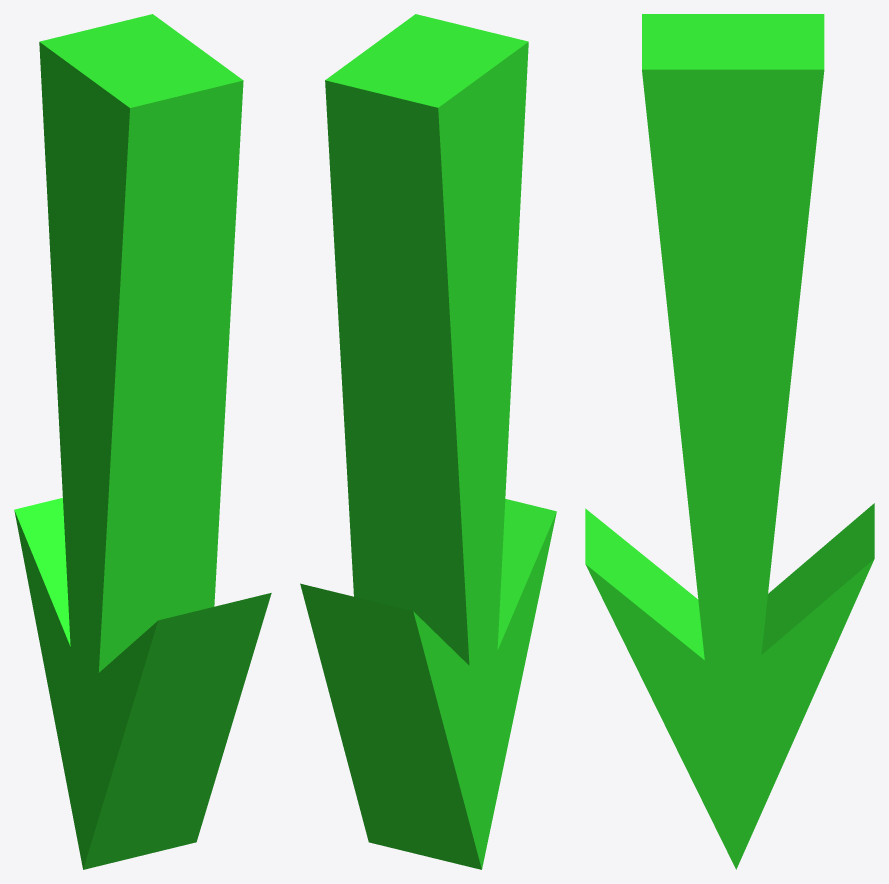
Rendered from Arrow.obj.
The picture shows the model from 3 angles, left to right: view 1: azimuth 30°, elevation 25°; view 2: azimuth 150°, elevation 25°; view 3: azimuth 270°, elevation 25°; orthographic projection.
Visible parts, largest first — view 1: Arrow; view 2: Arrow; view 3: Arrow.
Boxes of the visible parts, x1,y1,x2,y2 form: Arrow: (14, 14, 271, 869); Arrow: (300, 14, 556, 869); Arrow: (585, 14, 874, 869).
Bounding box in the file's own units: 0.1495 × 1 × 0.3286.
